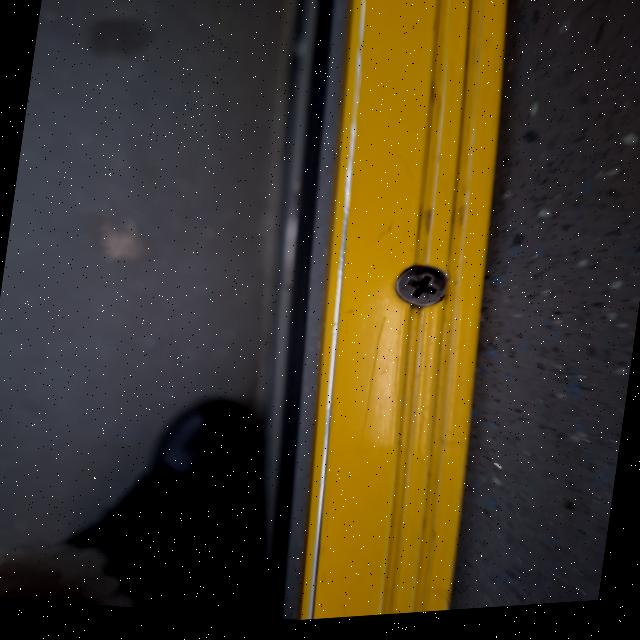Phillips: (390, 261, 454, 313)
